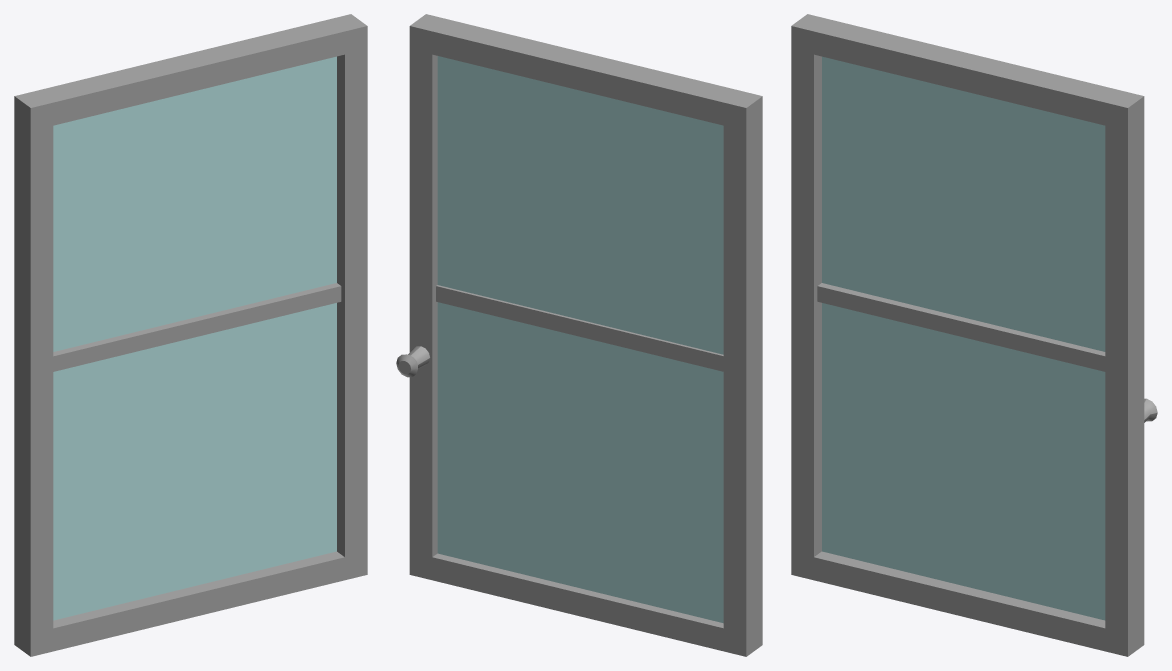
Rendered from OpenableWindowR.fbx.
The picture shows the model from 3 angles, left to right: view 1: azimuth 30°, elevation 25°; view 2: azimuth 150°, elevation 25°; view 3: azimuth 330°, elevation 25°; orthographic projection.
Parts seen in each view (by area): view 1: OpenableWindowR; view 2: OpenableWindowR; view 3: OpenableWindowR.
Boxes of the visible parts, left/top/right/bottom form: OpenableWindowR: left=14, top=14, right=367, bottom=656; OpenableWindowR: left=396, top=14, right=762, bottom=656; OpenableWindowR: left=791, top=14, right=1157, bottom=656.
Bounding box in the file's own units: 1.13 × 1.76 × 0.1901.
